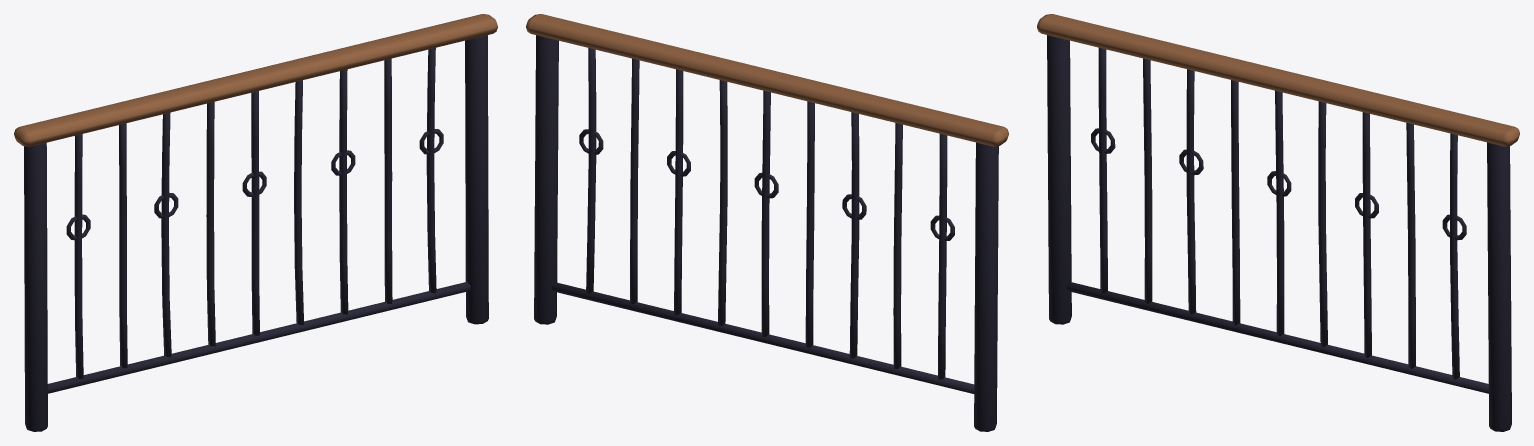
File: balcony_railing.glb
3 renders of one model, left to right at view 1: azimuth 30°, elevation 25°; view 2: azimuth 150°, elevation 25°; view 3: azimuth 330°, elevation 25°, orthographic.
Parts seen in each view (by area): view 1: balcony_railing; view 2: balcony_railing; view 3: balcony_railing.
Part boxes in pixels (<box>): balcony_railing: <box>14,14,497,431</box>; balcony_railing: <box>526,14,1008,431</box>; balcony_railing: <box>1037,14,1519,431</box>.
Size of the model in its own units: 1.62 by 0.985 by 0.0803.
